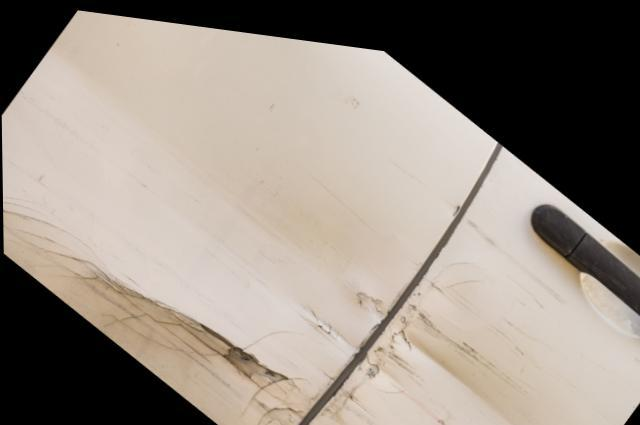dent: (43, 9, 402, 359), (388, 252, 541, 425)
scratch: (295, 358, 460, 425)
